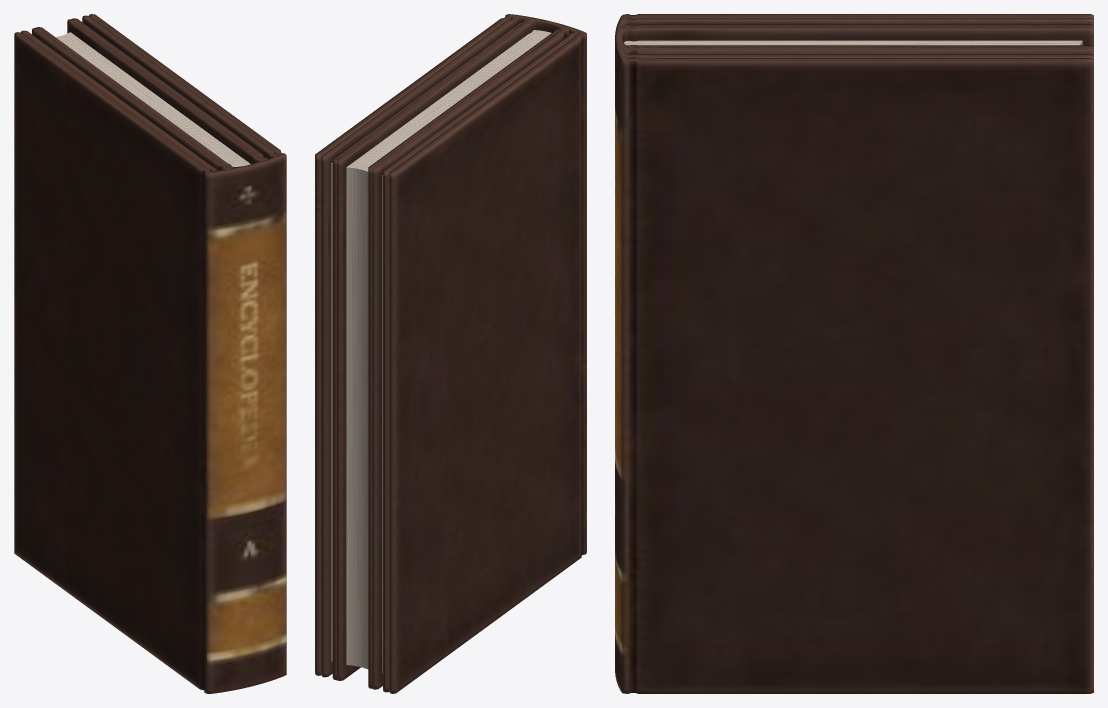
File: volumes.glb
The picture shows the model from 3 angles, left to right: view 1: azimuth 30°, elevation 25°; view 2: azimuth 150°, elevation 25°; view 3: azimuth 270°, elevation 25°; orthographic projection. The views are drawn at different scales.
Parts seen in each view (by area): view 1: volume_0, volume_5, volume_13, volume_17, volume_9; view 2: volume_0, volume_5, volume_13, volume_17, volume_9; view 3: volume_0, volume_5, volume_13, volume_17, volume_9.
Part boxes in pixels (x1=…): volume_0: x1=14, y1=14, x2=286, y2=693; volume_5: x1=35, y1=19, x2=264, y2=169; volume_13: x1=21, y1=15, x2=279, y2=171; volume_17: x1=32, y1=18, x2=266, y2=169; volume_9: x1=34, y1=18, x2=267, y2=169; volume_0: x1=315, y1=14, x2=586, y2=693; volume_5: x1=336, y1=19, x2=565, y2=688; volume_13: x1=321, y1=16, x2=578, y2=692; volume_17: x1=332, y1=19, x2=568, y2=689; volume_9: x1=333, y1=18, x2=568, y2=689; volume_0: x1=615, y1=14, x2=1093, y2=693; volume_5: x1=615, y1=26, x2=1093, y2=49; volume_13: x1=615, y1=18, x2=1093, y2=59; volume_17: x1=615, y1=24, x2=1093, y2=55; volume_9: x1=615, y1=24, x2=1093, y2=51.
Bounding box in the file's own units: 0.0387 × 0.2374 × 0.1631.
2 materials, 2 textured.
